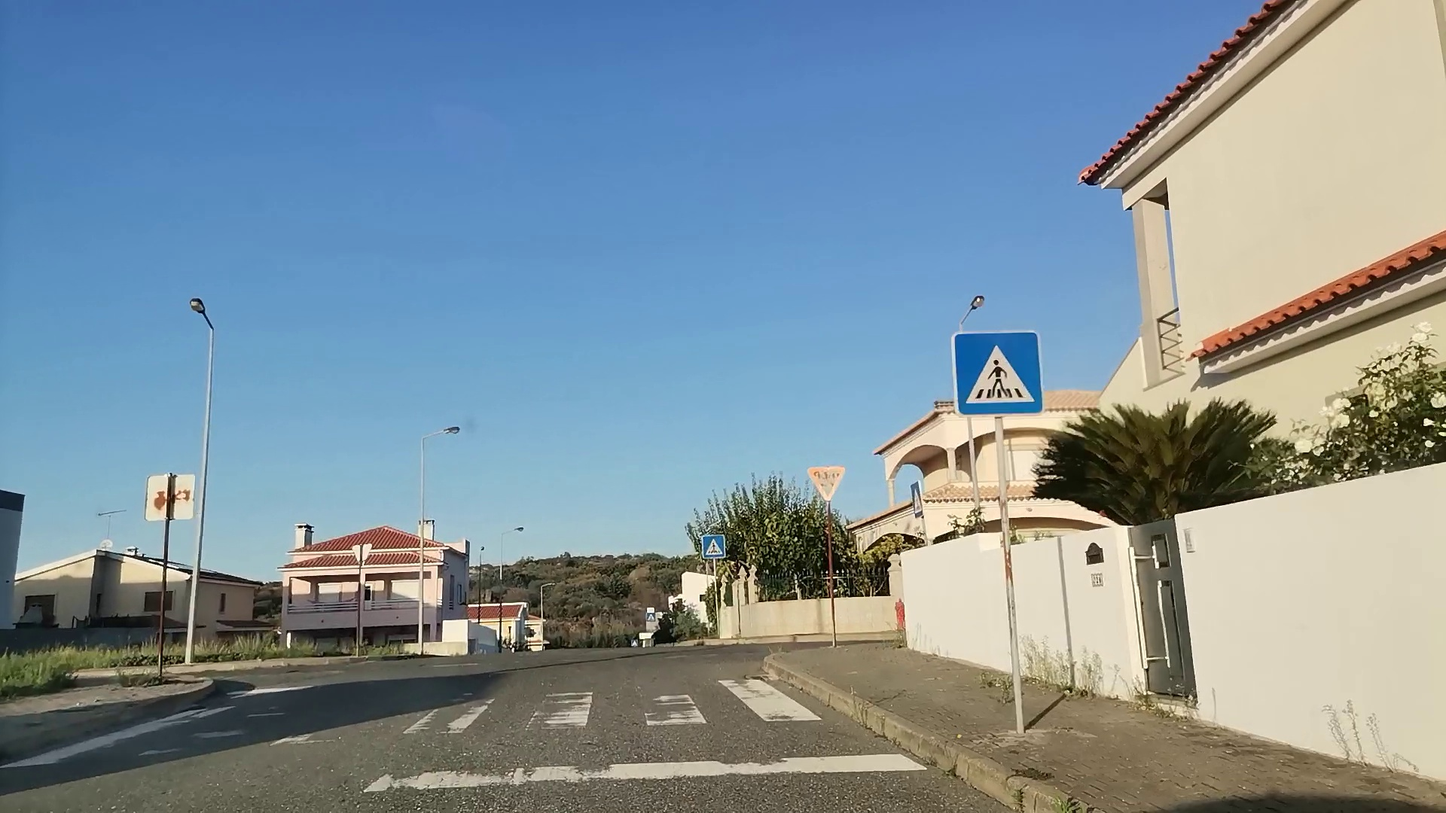Stairs: (168, 673, 885, 780)
